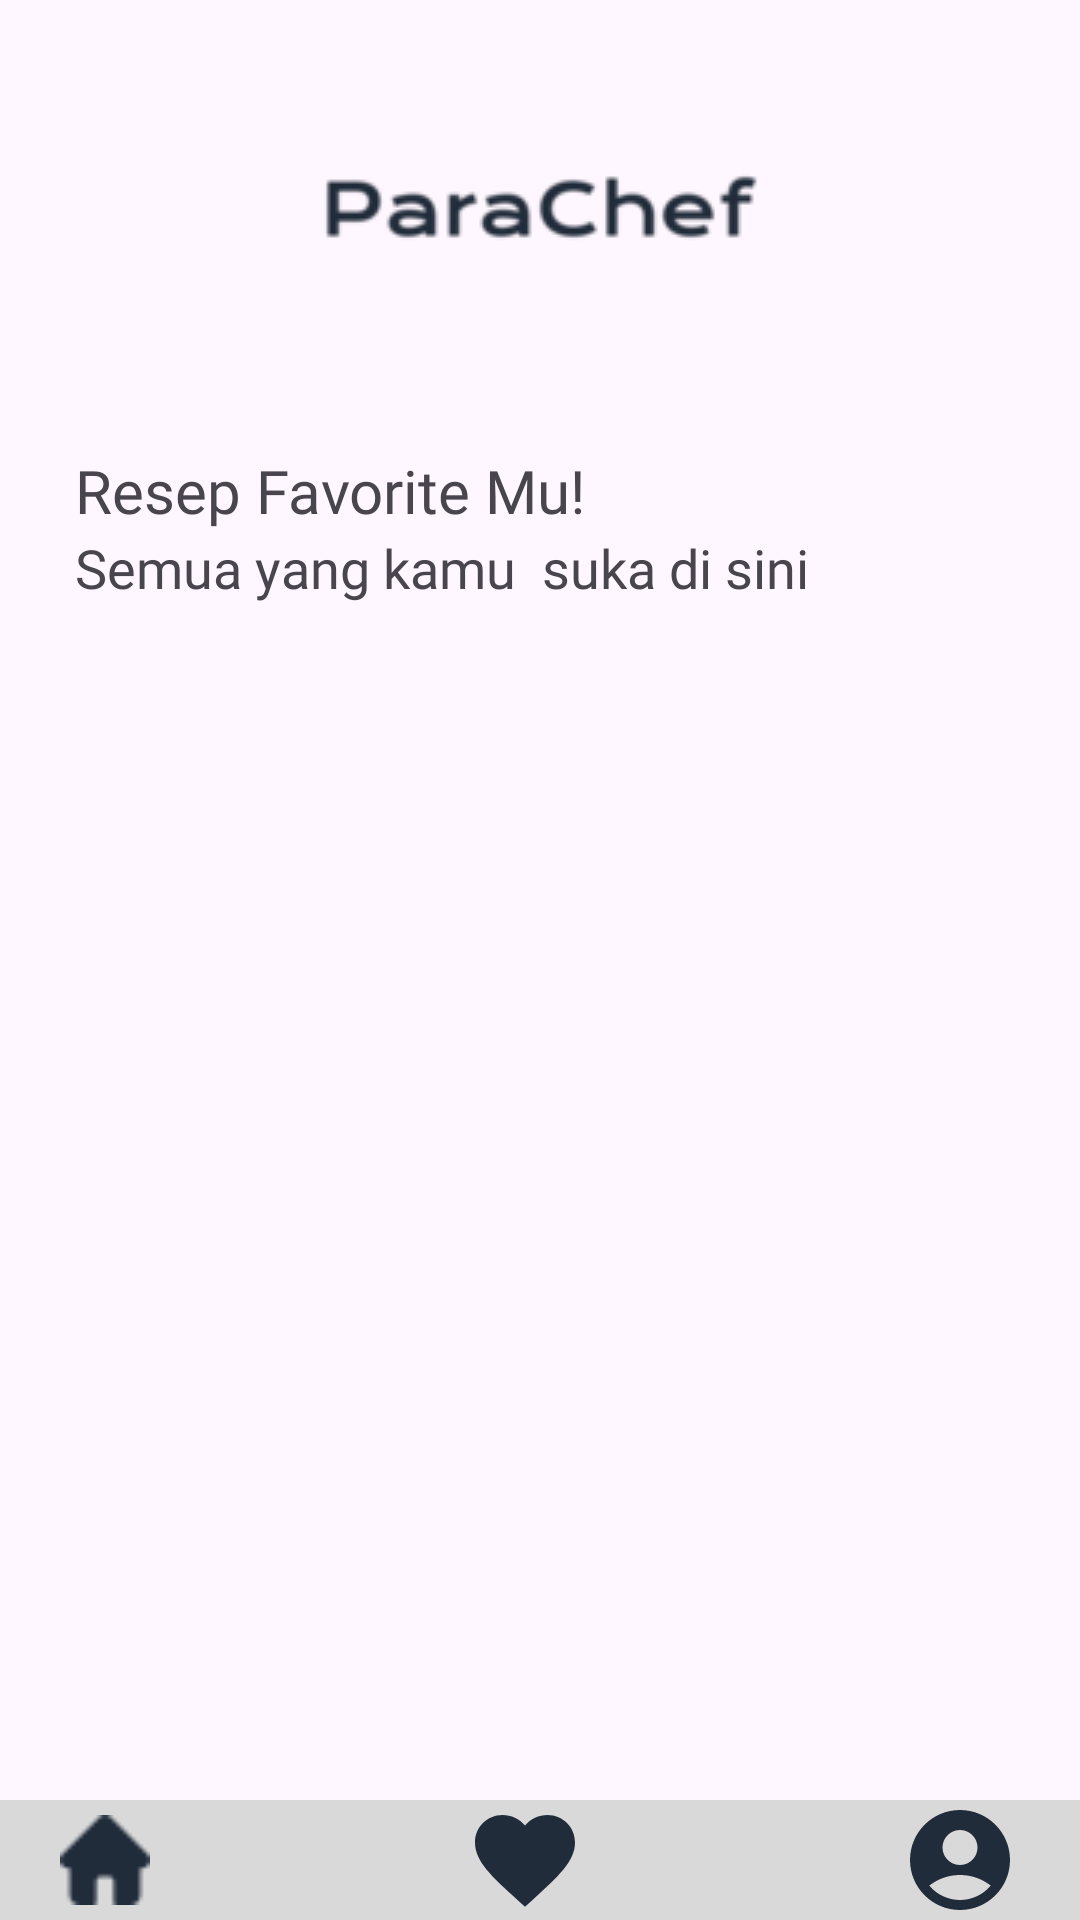

Named icons in this screenshot (1080 × 1920) and their centers, (x,y):
favadd: (525,1861)
navhome: (105,1860)
profile: (960,1860)
